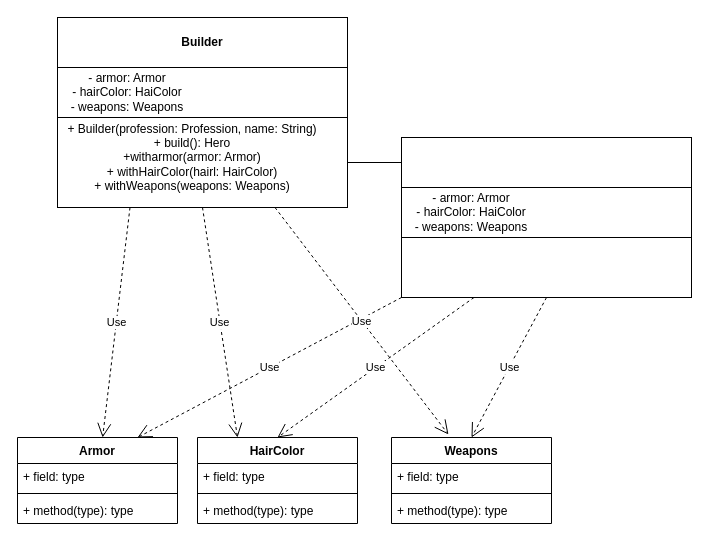
Some shapes in this 709 by 544 pixel diagram are drawn without their labels. The centre of each missing label's shape, as x and y in pixels:
"- Hero(builder: Builder) + Other methods" belongs at point 546,267.
"Hero" belongs at point 546,162.
